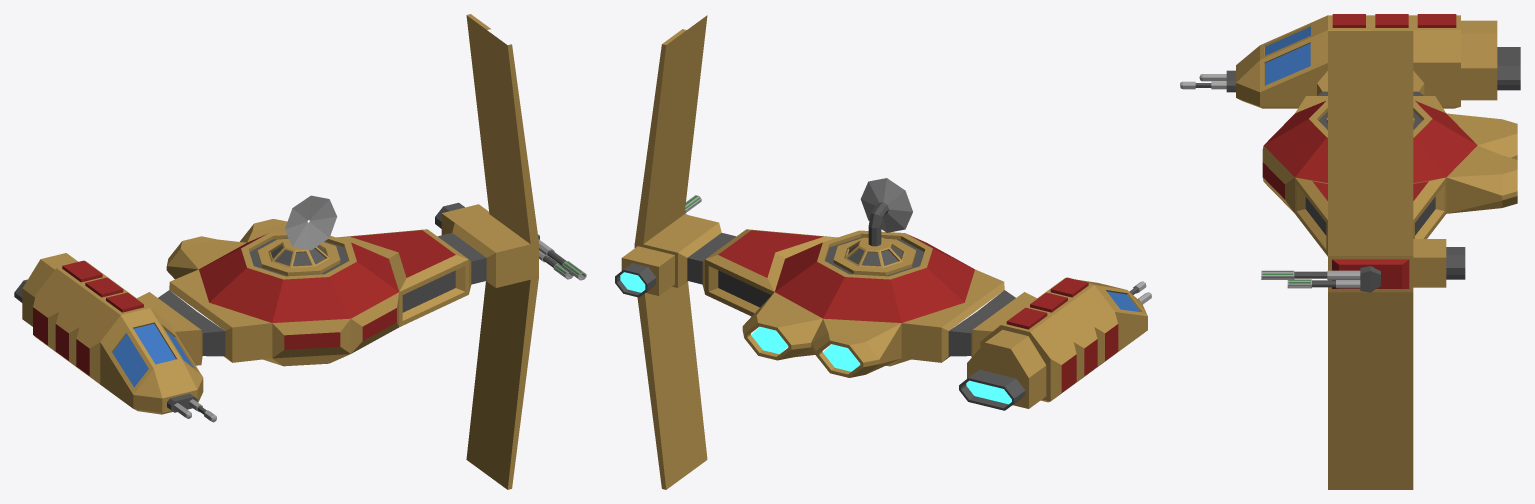
Rendered from spship3.glb.
3 renders of one model, left to right at view 1: azimuth 30°, elevation 25°; view 2: azimuth 150°, elevation 25°; view 3: azimuth 270°, elevation 25°, orthographic. The views are drawn at different scales.
Bounding box in the file's own units: 1.3 × 1.2 × 0.8044.
